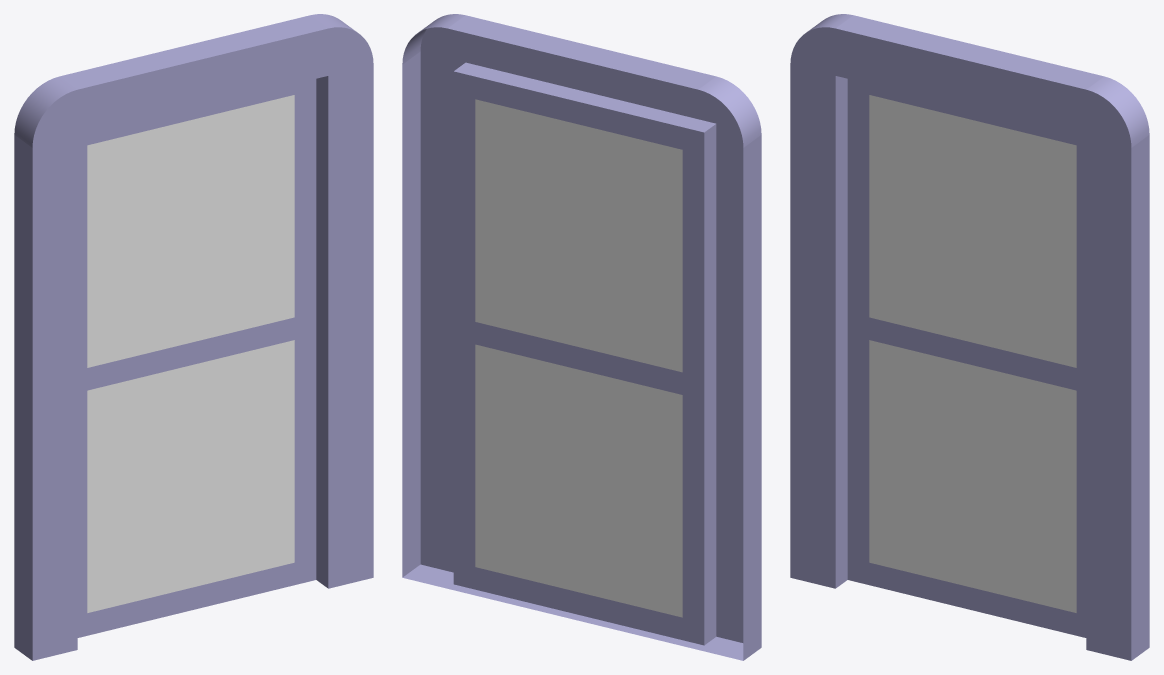
The model's file is door2.obj.
3 renders of one model, left to right at view 1: azimuth 30°, elevation 25°; view 2: azimuth 150°, elevation 25°; view 3: azimuth 330°, elevation 25°, orthographic.
Parts seen in each view (by area): view 1: mergedBlocks; view 2: mergedBlocks; view 3: mergedBlocks.
Boxes of the visible parts, x1,y1,x2,y2 form: mergedBlocks: (14, 14, 373, 660); mergedBlocks: (402, 14, 761, 660); mergedBlocks: (790, 14, 1149, 660).
Bounding box in the file's own units: 0.326 × 0.5117 × 0.03.
